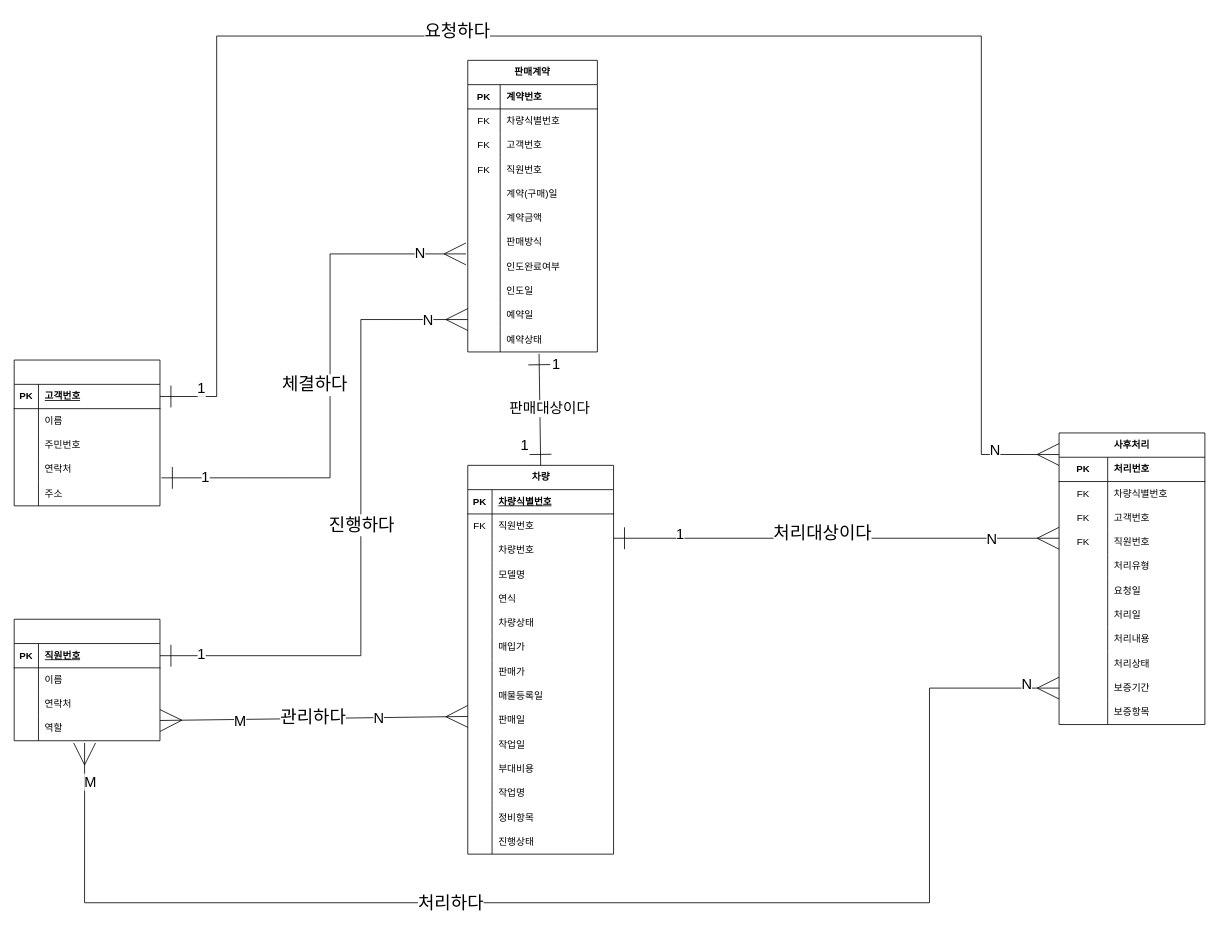
Some shapes in this 1219 by 940 pixel diagram are drawn without their labels. Here are the shapes that lost their labels. From the top down, the box of each, then its label:
(13, 359, 160, 506): 고객
(13, 618, 160, 741): 직원
